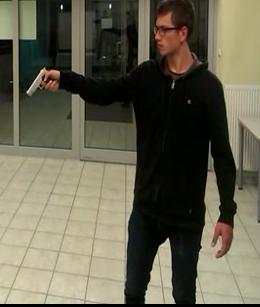pistol: (26, 66, 55, 97)
